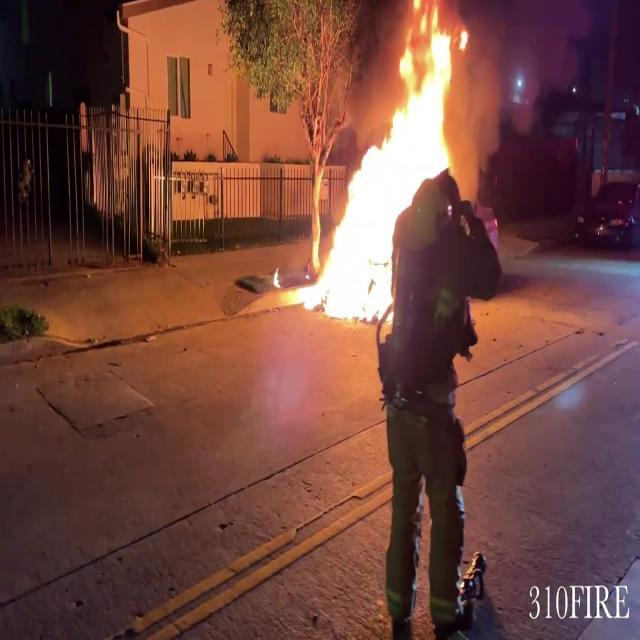Fire: (307, 2, 466, 320)
